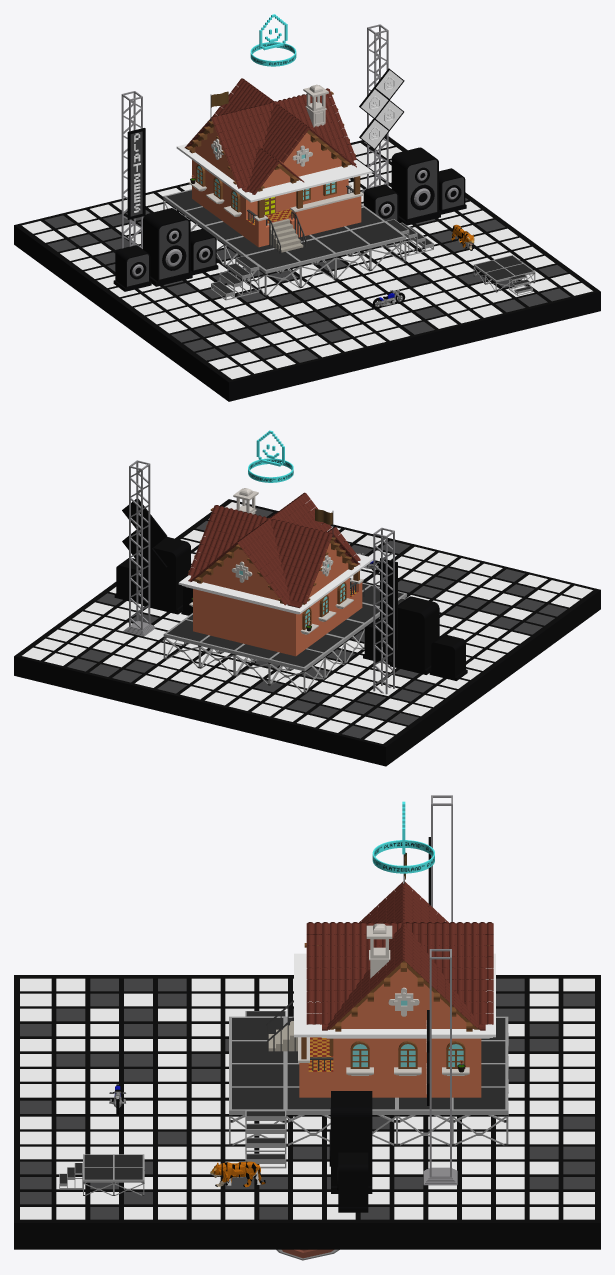
3 views of the same model, one above another, from view 1: azimuth 30°, elevation 25°; view 2: azimuth 150°, elevation 25°; view 3: azimuth 270°, elevation 25° (orthographic). The views are drawn at different scales.
Parts seen in each view (by area): view 1: Cube.008, Cube.1141, TYPE_PREMIUM; view 2: Cube.008, Cube.1141, TYPE_PREMIUM; view 3: Cube.008, Cube.1141, TYPE_PREMIUM, ANIMAL_TIGRE.
Part boxes in pixels (bbox=[...]): Cube.008: bbox=[14, 24, 600, 401]; Cube.1141: bbox=[176, 78, 372, 253]; TYPE_PREMIUM: bbox=[250, 14, 296, 66]; Cube.008: bbox=[14, 460, 600, 766]; Cube.1141: bbox=[178, 488, 373, 656]; TYPE_PREMIUM: bbox=[248, 430, 293, 482]; Cube.008: bbox=[14, 795, 600, 1249]; Cube.1141: bbox=[266, 852, 495, 1097]; TYPE_PREMIUM: bbox=[372, 801, 434, 873]; ANIMAL_TIGRE: bbox=[210, 1161, 265, 1187].
Size of the model in its own units: 4000 by 3228 by 4000.
46 materials, 2 textured.
